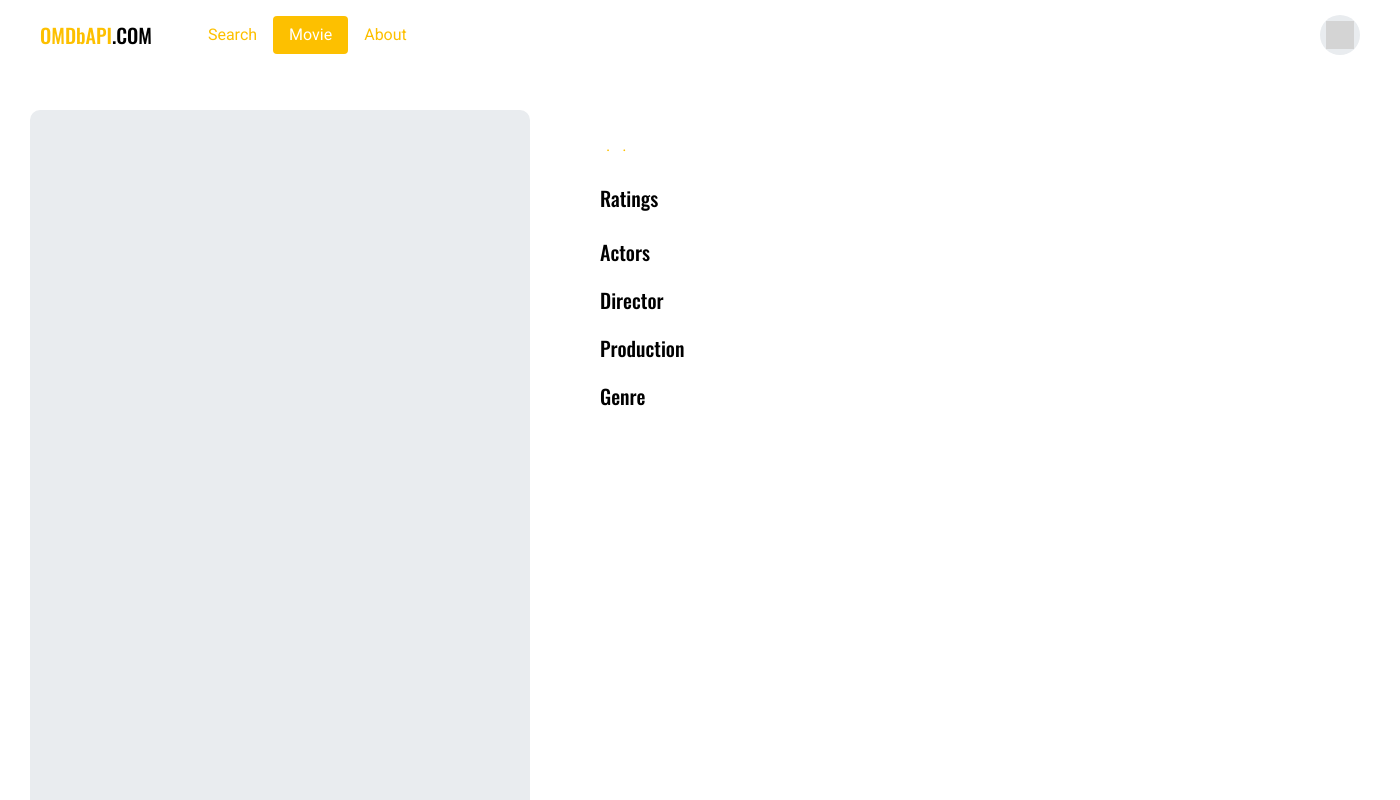
it: About 페이지 이동 › About 페이지로 이동합니다
Click the element with class "user" at (1340, 35), box top-left (1320, 15), bottom-right (1360, 55)
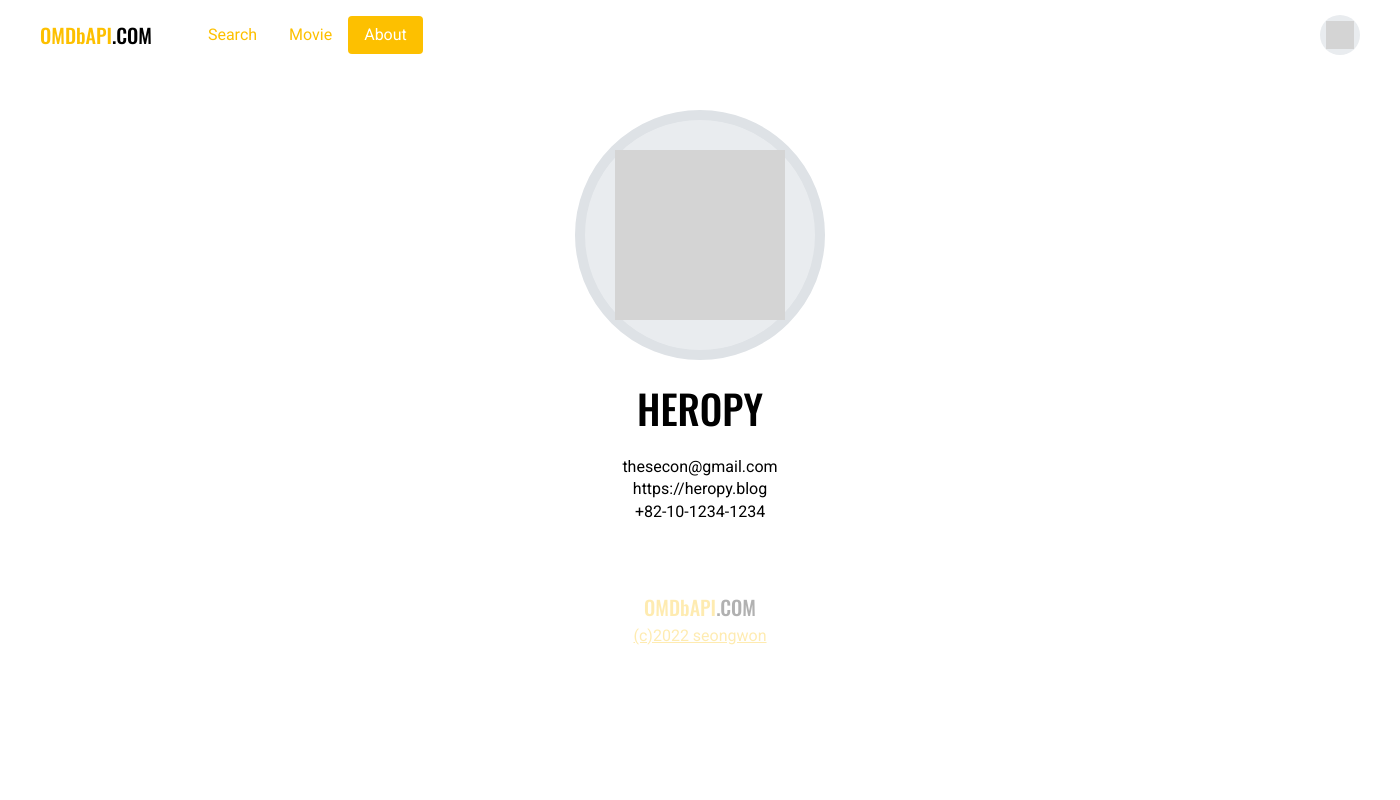
Expected: the link "About" is shown, top-left (348, 16), bottom-right (423, 54)
Expected: the text "HEROPY" is shown, top-left (637, 378), bottom-right (763, 438)
